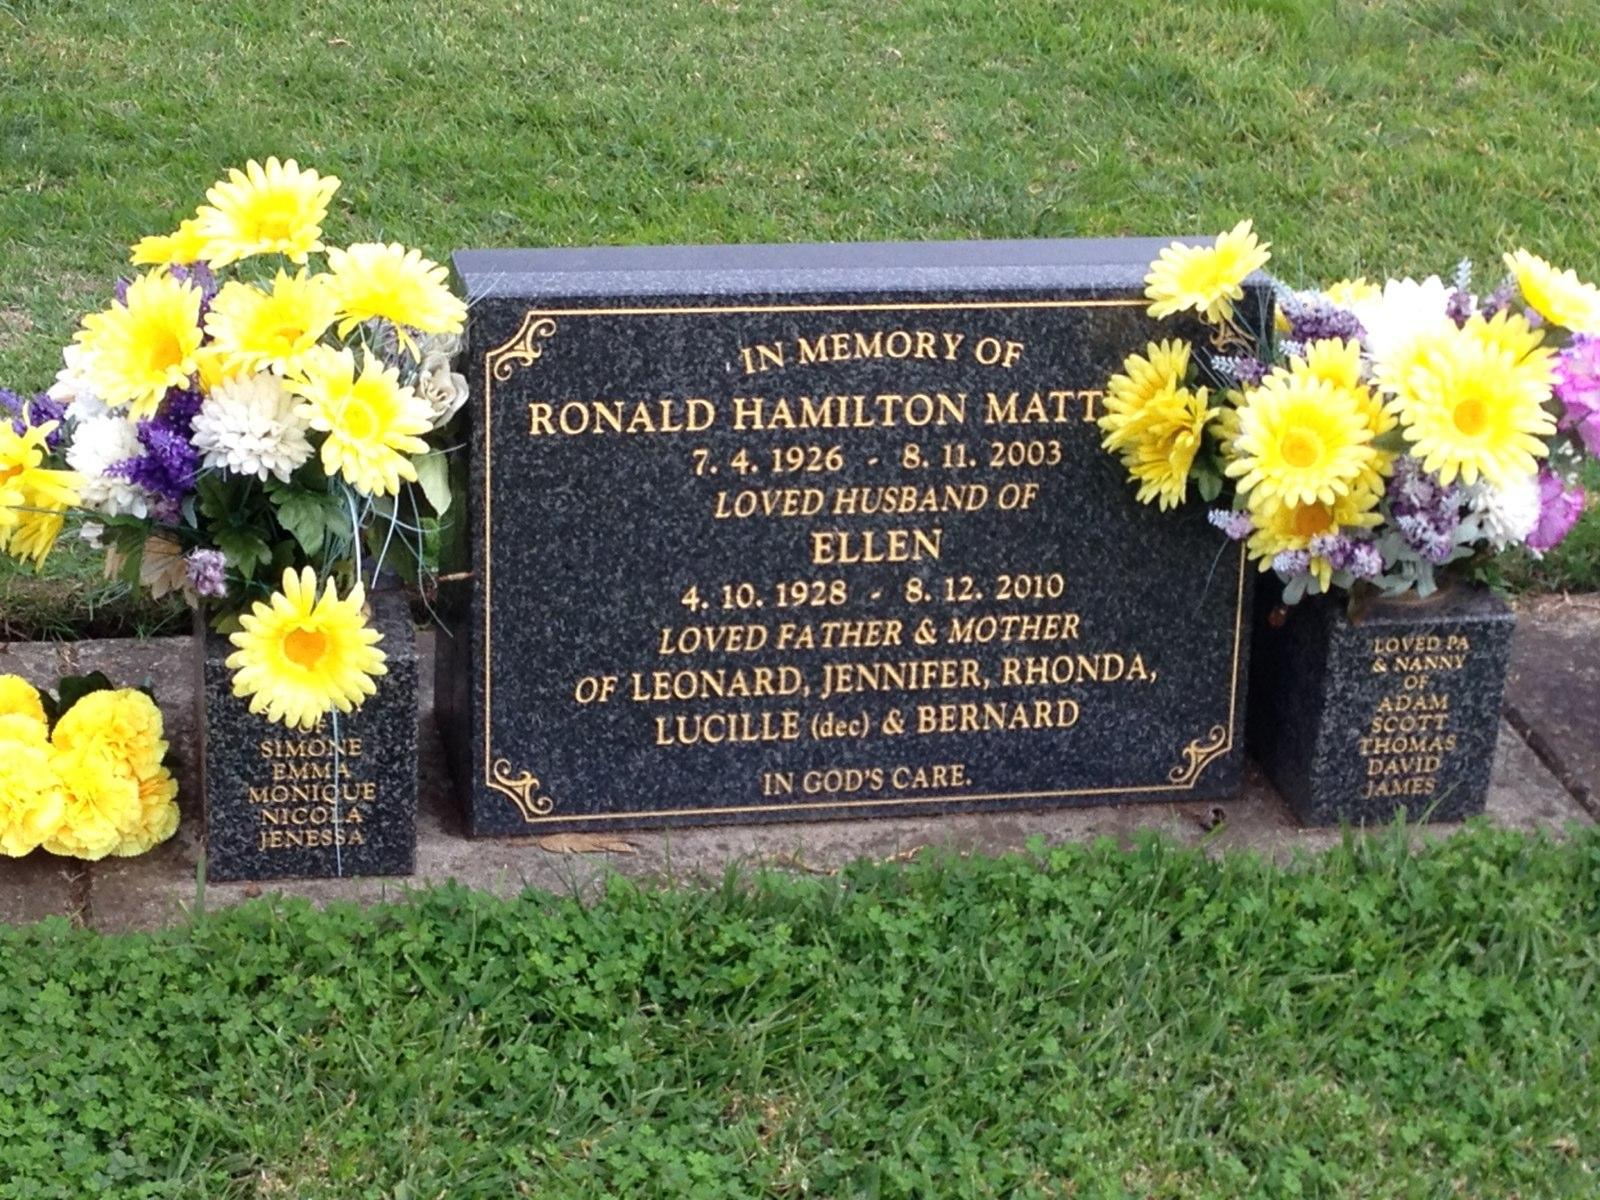upright: (189, 234, 1518, 918)
